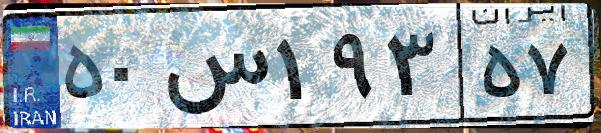0: (110, 28, 158, 98)
1: (270, 28, 330, 110)
3: (385, 28, 445, 110)
5: (57, 26, 110, 100), (475, 38, 525, 113)
7: (525, 38, 570, 115)
9: (330, 28, 385, 110)
س: (158, 20, 270, 120)
